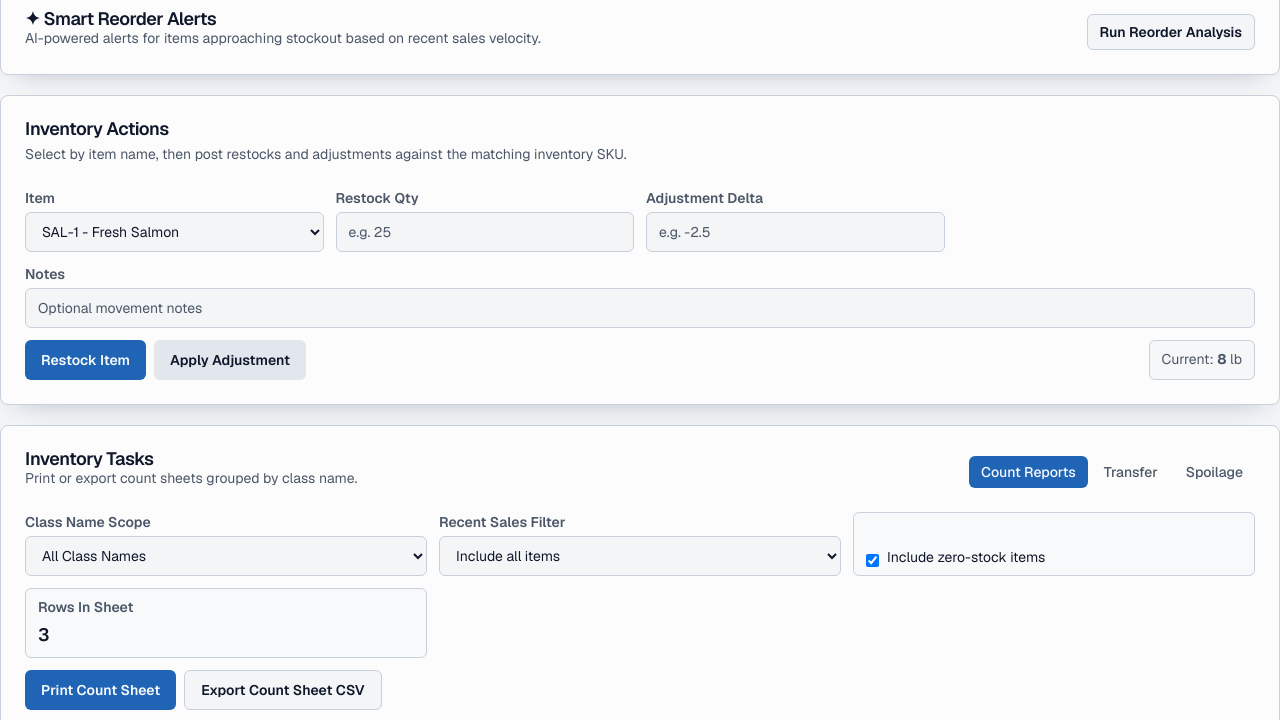
it: InventoryPage › validates and submits a restock action, then refreshes inventory data
(page scrolled)
Click the button "Restock Item" at (86, 360), box top-left (25, 340), bottom-right (146, 380)
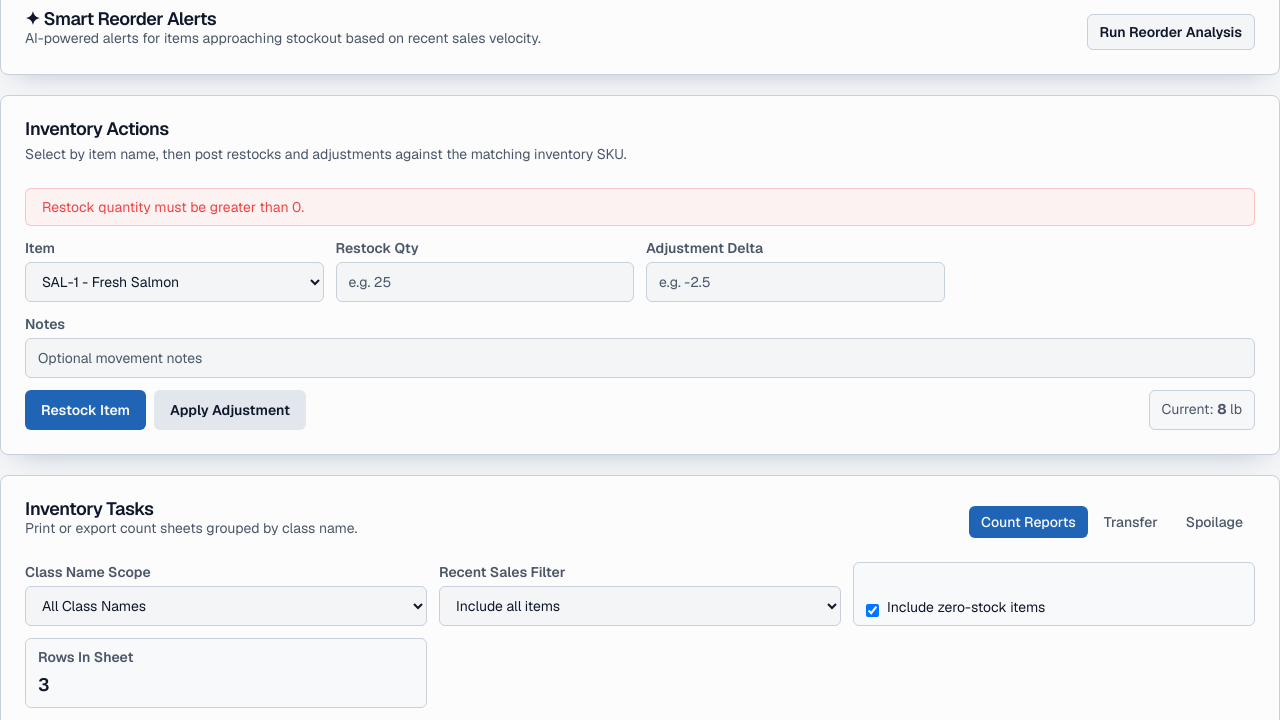
Check: the text "Restock quantity must be greater than 0." is shown, box top-left (25, 188), bottom-right (1255, 226)
Type "25" into the number field labelled "Restock Qty" at (485, 282), box top-left (336, 262), bottom-right (634, 302)
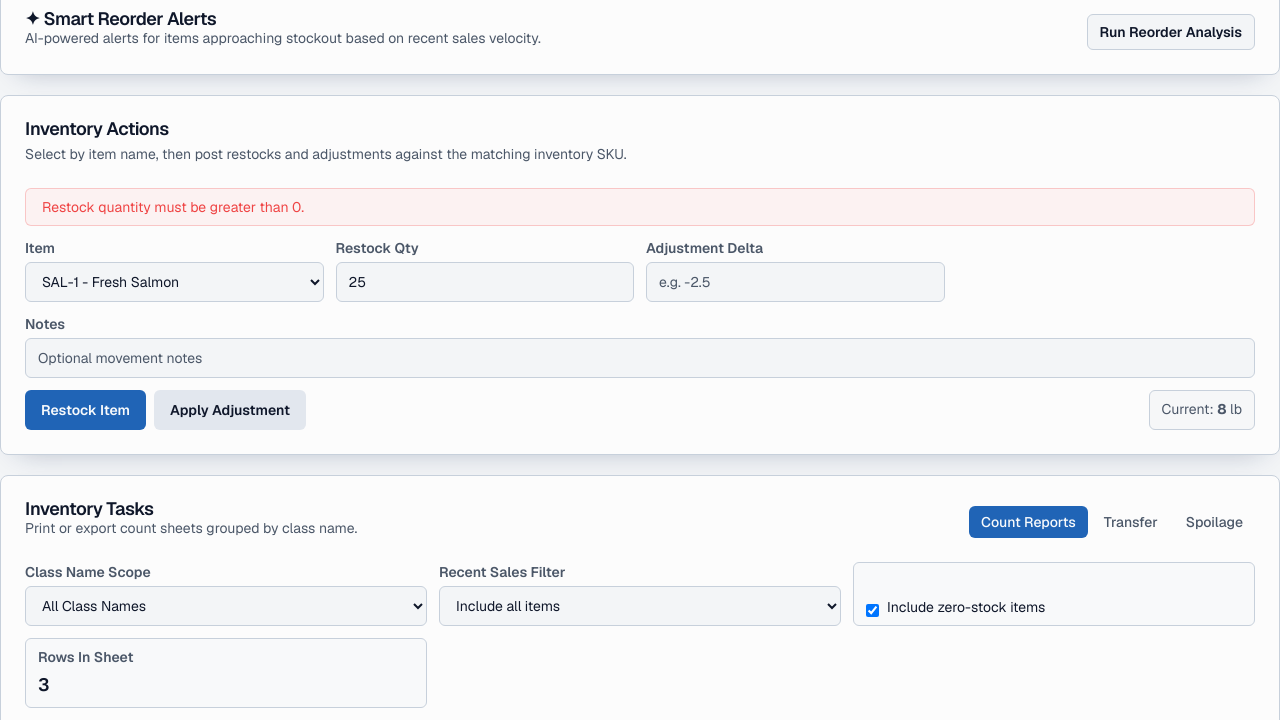
Type "Dock delivery" into the field labelled "Notes" at (640, 358), box top-left (25, 338), bottom-right (1255, 378)
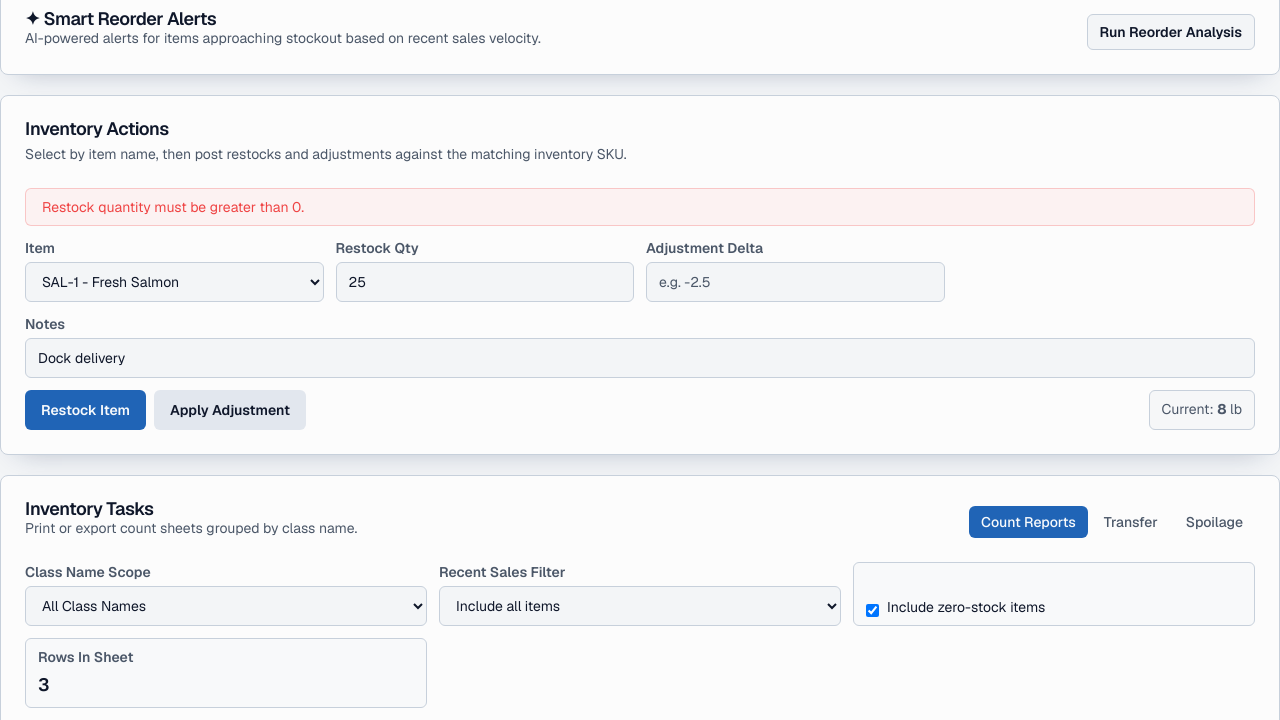
Click the button "Restock Item" at (86, 410), box top-left (25, 390), bottom-right (146, 430)
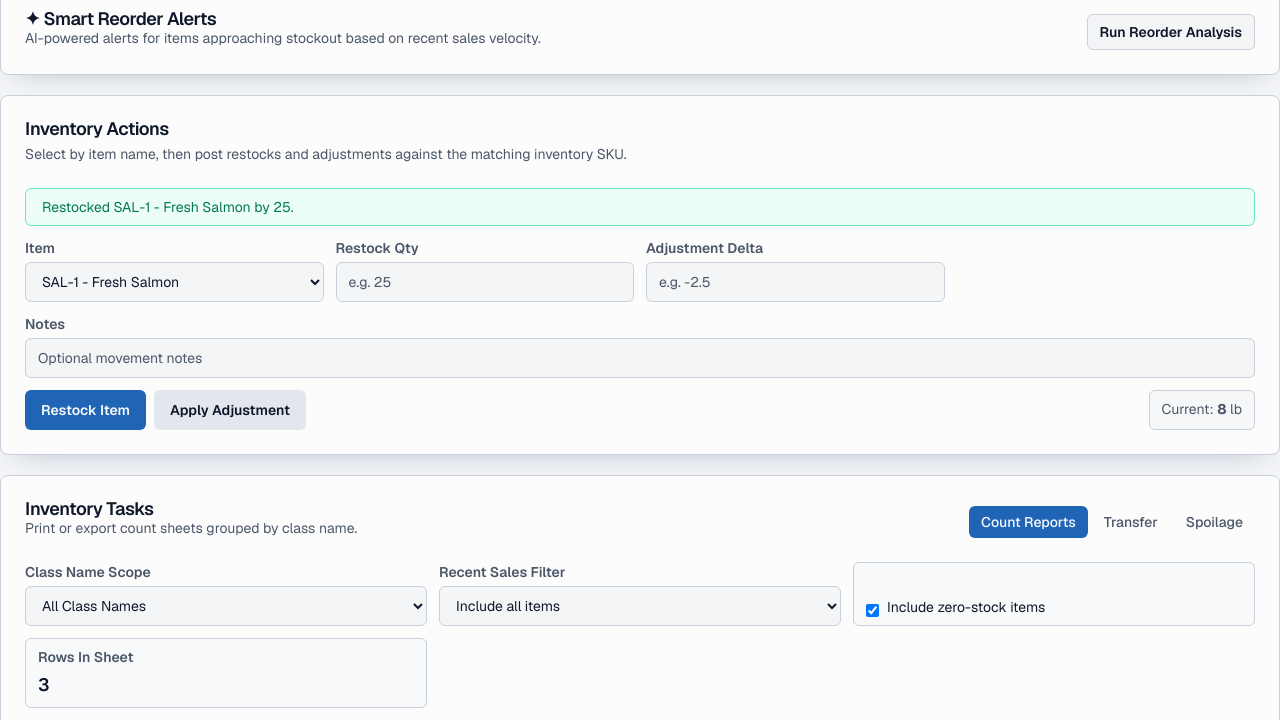
Check: the text "Restocked SAL-1 - Fresh Salmon by 25." is shown, box top-left (25, 188), bottom-right (1255, 226)
